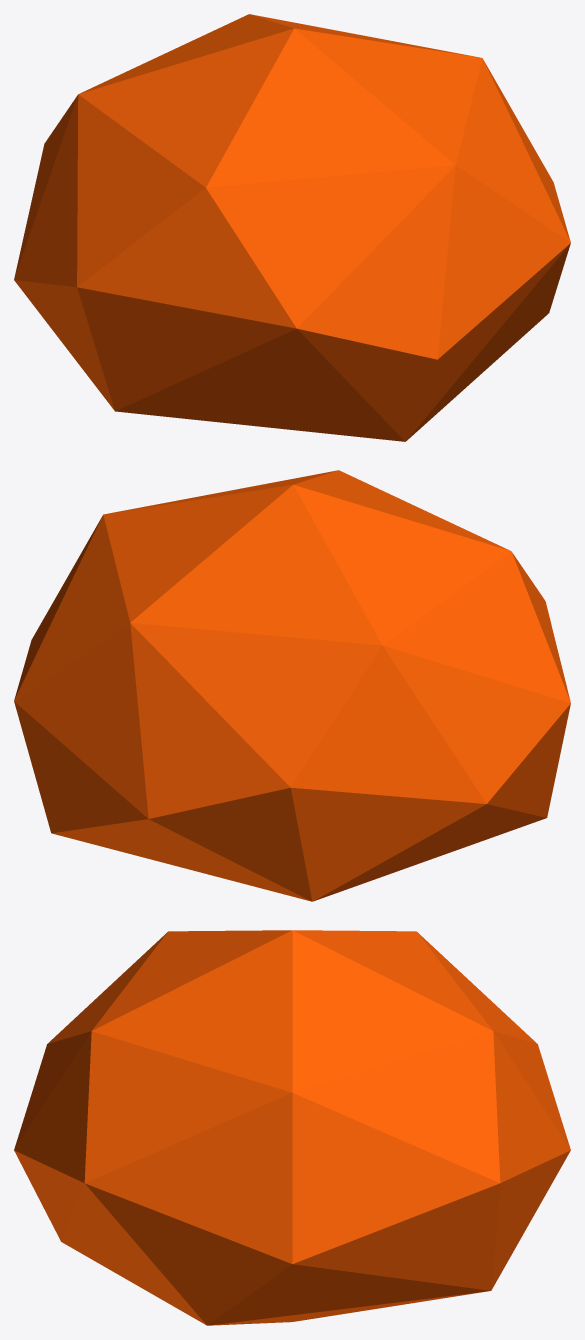
The model's file is Bush_002.fbx.
3 views of the same model, one above another, from view 1: azimuth 30°, elevation 25°; view 2: azimuth 150°, elevation 25°; view 3: azimuth 270°, elevation 25° (orthographic). The views are drawn at different scales.
Visible parts, largest first — view 1: Bush.002; view 2: Bush.002; view 3: Bush.002.
Boxes of the visible parts, x1,y1,x2,y2 form: Bush.002: (14,14,570,441); Bush.002: (14,470,570,901); Bush.002: (14,930,570,1325).
Size of the model in its own units: 146 by 93.68 by 143.
